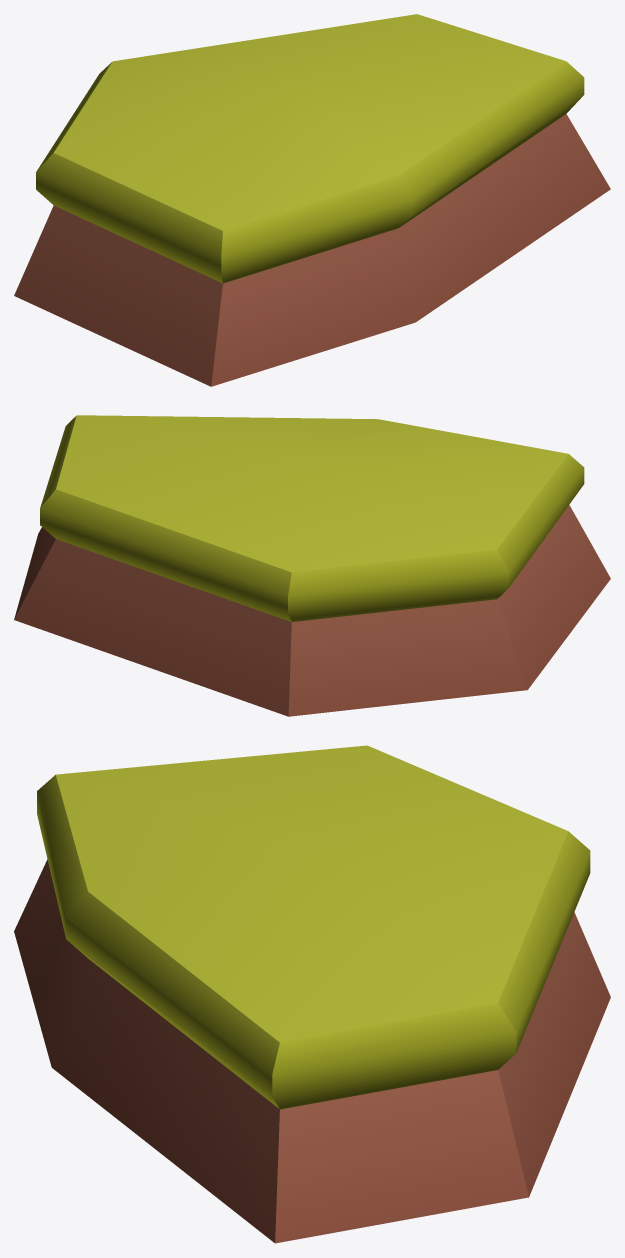
Rendered from kk_hill_A.glb.
3 views of the same model, one above another, from view 1: azimuth 30°, elevation 25°; view 2: azimuth 150°, elevation 25°; view 3: azimuth 270°, elevation 25° (orthographic). The views are drawn at different scales.
Visible parts, largest first — view 1: hill_single_A; view 2: hill_single_A; view 3: hill_single_A.
Boxes of the visible parts, x1,y1,x2,y2 form: hill_single_A: (14, 14, 610, 386); hill_single_A: (14, 415, 610, 716); hill_single_A: (14, 745, 610, 1243).
Size of the model in its own units: 1.11 by 0.3073 by 0.8093.
1 material, 1 textured.
